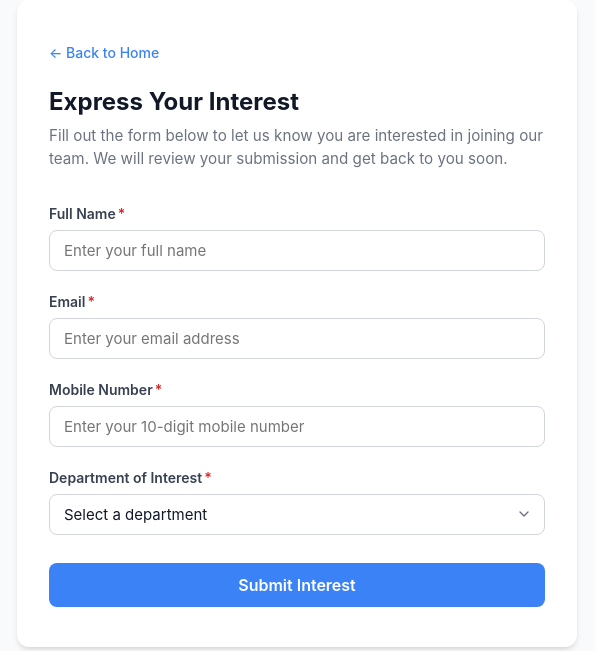
InterestForm › field validation error display › shows error for invalid email format
Type "notanemail" into the field labelled "Email*" at (297, 338), box [49,318,545,359]
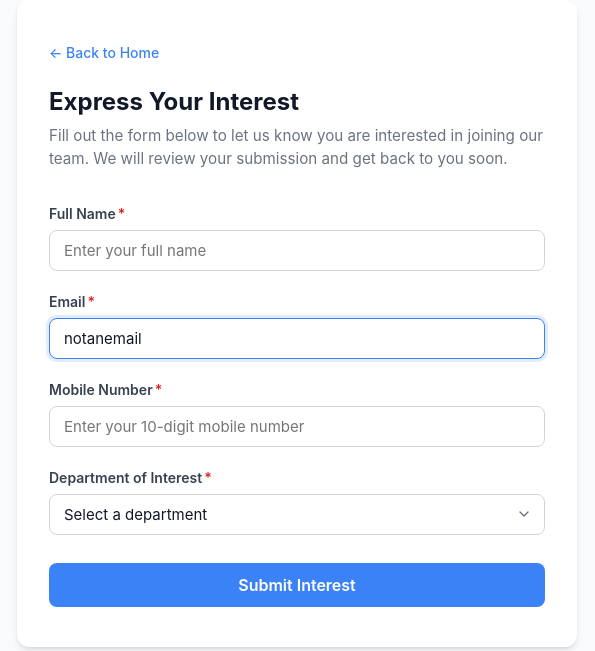
Click the button "Submit Interest" at (297, 585), box [49,563,545,607]
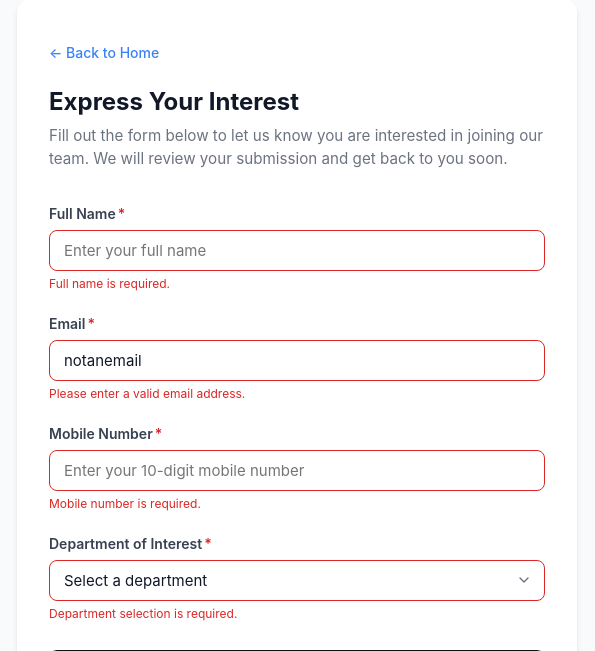
Check: the text "Please enter a valid email address." is shown, box [49,386,245,401]
